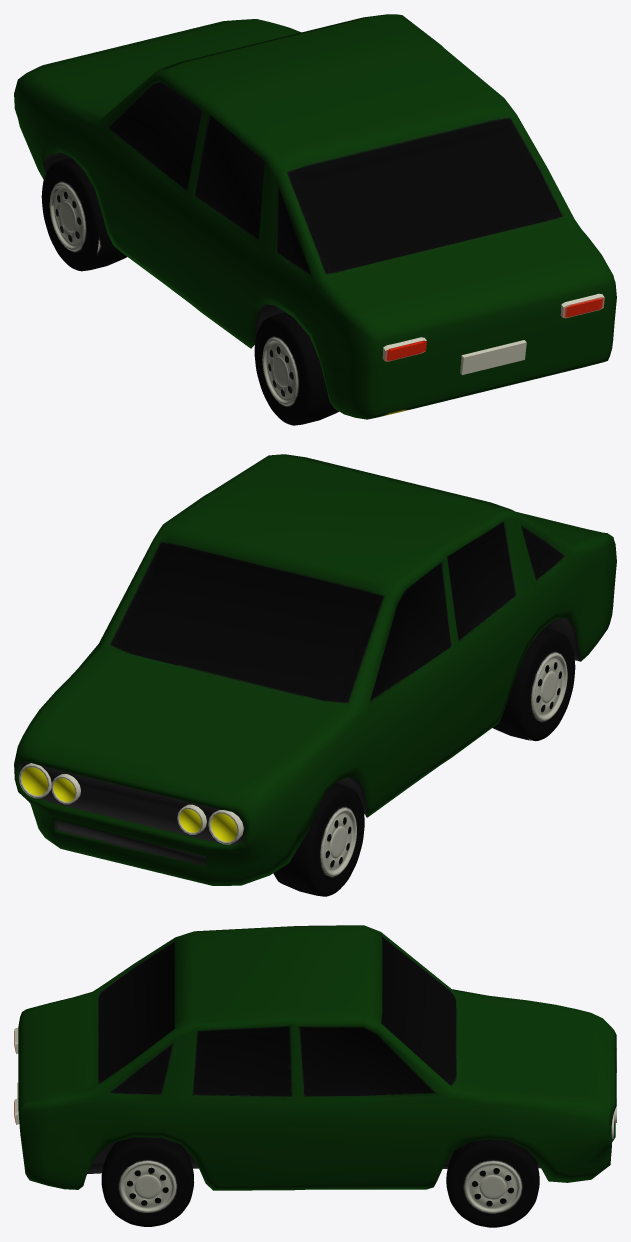
File: car.glb
3 renders of one model, top to bottom at view 1: azimuth 30°, elevation 25°; view 2: azimuth 150°, elevation 25°; view 3: azimuth 270°, elevation 25°, orthographic. The views are drawn at different scales.
Visible parts, largest first — view 1: v_4, tires_rear_v2, tires_v2, lamps_rear_v1, numberplate; view 2: v_4, tires_v2, tires_rear_v2, lamps_v1; view 3: v_4, tires_rear_v2, tires_v2.
Boxes of the visible parts, bbox=[...] form: v_4: bbox=[14, 14, 616, 419]; tires_rear_v2: bbox=[254, 312, 338, 425]; tires_v2: bbox=[41, 157, 126, 271]; lamps_rear_v1: bbox=[382, 293, 604, 361]; numberplate: bbox=[460, 340, 526, 374]; v_4: bbox=[14, 454, 616, 885]; tires_v2: bbox=[273, 783, 364, 896]; tires_rear_v2: bbox=[492, 628, 575, 741]; lamps_v1: bbox=[19, 763, 243, 844]; v_4: bbox=[18, 925, 616, 1190]; tires_rear_v2: bbox=[101, 1137, 194, 1226]; tires_v2: bbox=[446, 1139, 539, 1227].
Bounding box in the file's own units: 0.4272 × 0.3783 × 0.9996.
Materials: 8 (8 with a texture image).
